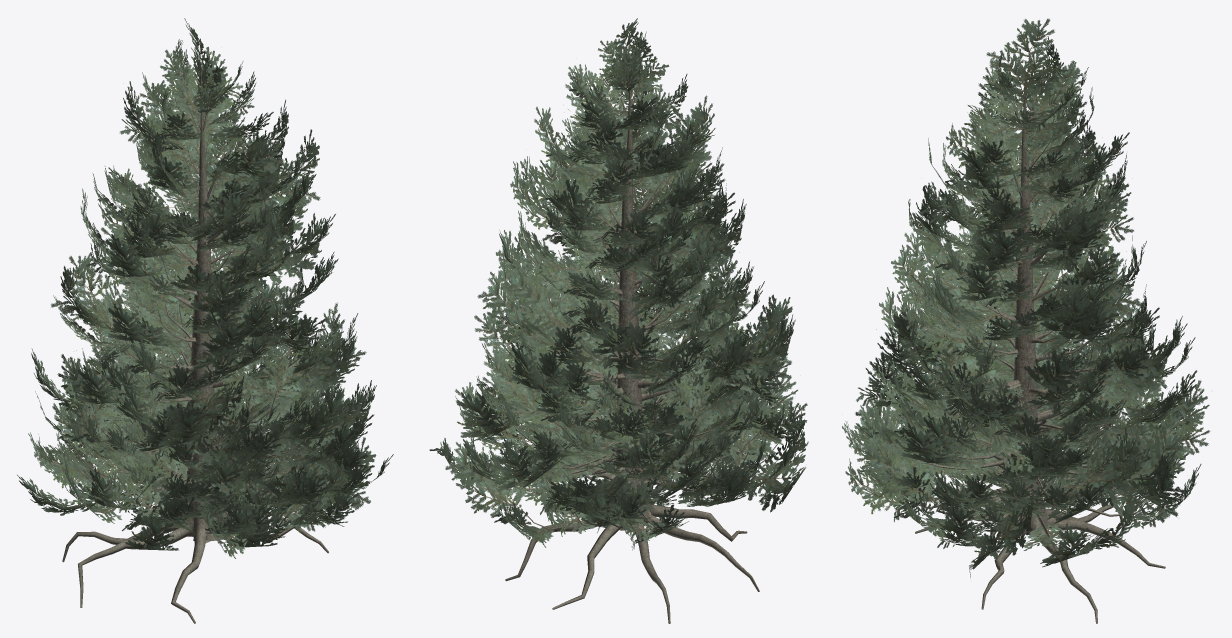
The model's file is fir_big.glb.
3 renders of one model, left to right at view 1: azimuth 30°, elevation 25°; view 2: azimuth 150°, elevation 25°; view 3: azimuth 270°, elevation 25°, orthographic.
Parts seen in each view (by area): view 1: Fir01_LOD0_M_Branch.007_0, Fir01_LOD0_M_Bark.007_0; view 2: Fir01_LOD0_M_Branch.007_0, Fir01_LOD0_M_Bark.007_0; view 3: Fir01_LOD0_M_Branch.007_0, Fir01_LOD0_M_Bark.007_0.
Part boxes in pixels (x1,y1,x2,y2): Fir01_LOD0_M_Branch.007_0: (17, 18, 393, 558); Fir01_LOD0_M_Bark.007_0: (62, 64, 332, 623); Fir01_LOD0_M_Branch.007_0: (429, 18, 808, 550); Fir01_LOD0_M_Bark.007_0: (485, 54, 778, 623); Fir01_LOD0_M_Branch.007_0: (842, 18, 1210, 577); Fir01_LOD0_M_Bark.007_0: (898, 60, 1166, 623).
Bounding box in the file's own units: 8.41 × 13 × 7.89.
Materials: 2 (2 with a texture image).
